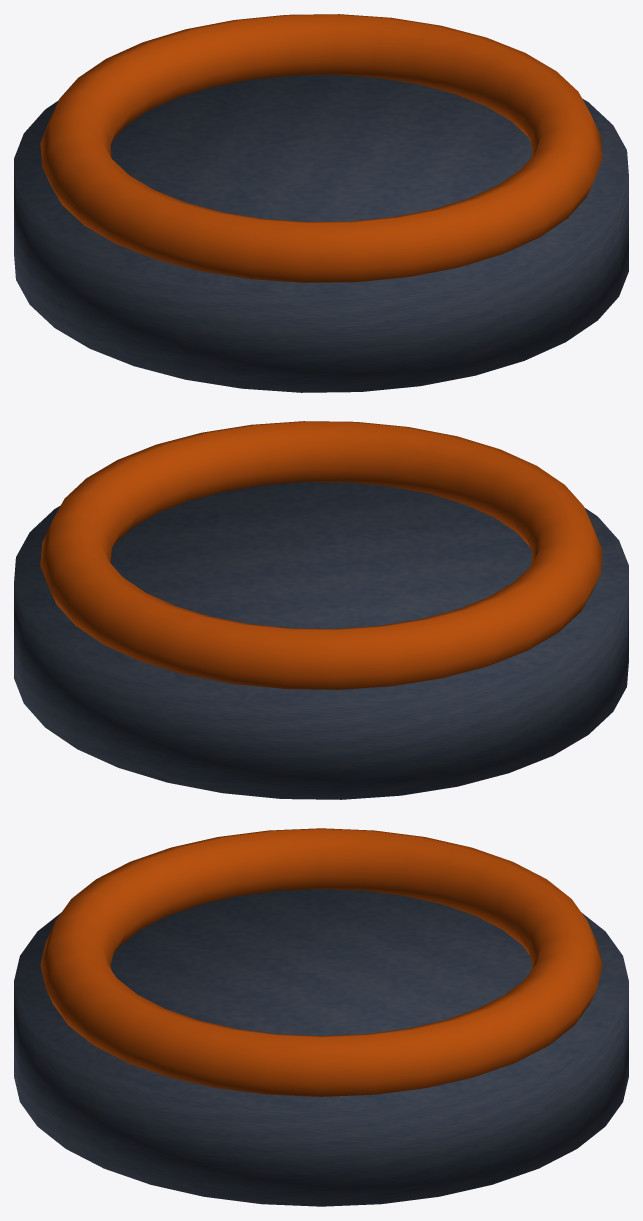
File: CautionBadge.obj
3 renders of one model, top to bottom at view 1: azimuth 30°, elevation 25°; view 2: azimuth 150°, elevation 25°; view 3: azimuth 270°, elevation 25°, orthographic.
Parts seen in each view (by area): view 1: Badge.001, Emissive_Border.001; view 2: Badge.001, Emissive_Border.001; view 3: Badge.001, Emissive_Border.001.
Boxes of the visible parts, x1=… form: Badge.001: x1=14, y1=75, x2=628, y2=392; Emissive_Border.001: x1=40, y1=14, x2=602, y2=282; Badge.001: x1=14, y1=482, x2=628, y2=799; Emissive_Border.001: x1=40, y1=421, x2=602, y2=689; Badge.001: x1=14, y1=889, x2=628, y2=1206; Emissive_Border.001: x1=40, y1=828, x2=602, y2=1096.
Bounding box in the file's own units: 0.07 × 0.018 × 0.07.
